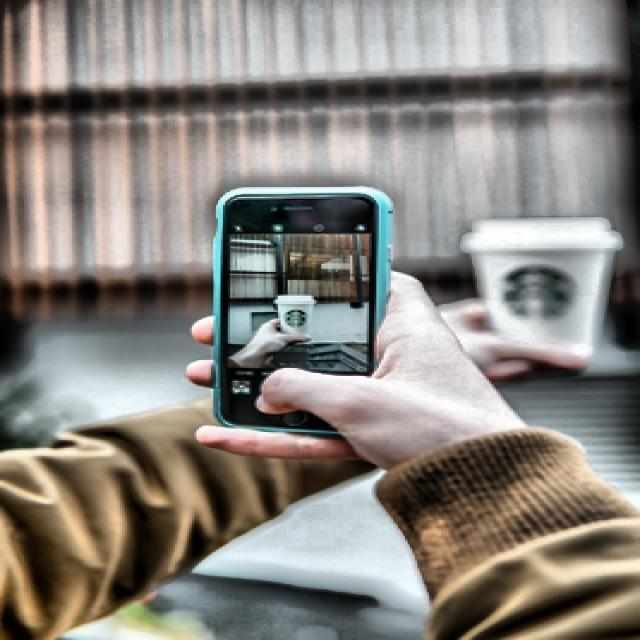Phone: (210, 185, 388, 439)
